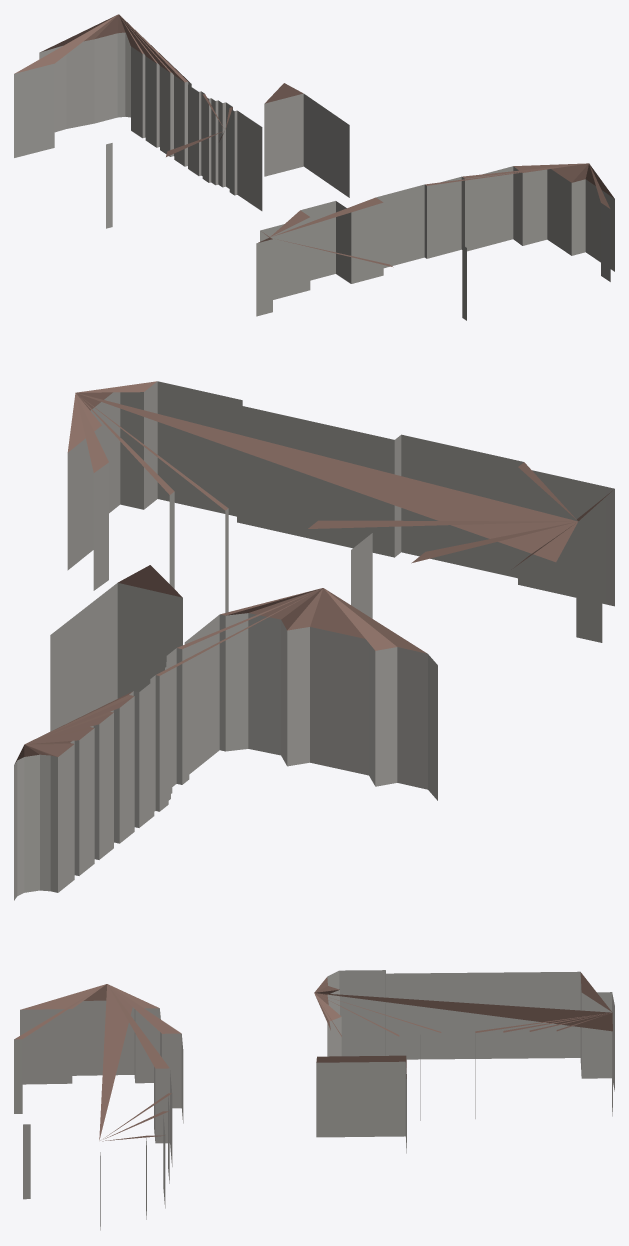
File: c_1636_17828_buildings_civic.glb
3 renders of one model, top to bottom at view 1: azimuth 30°, elevation 25°; view 2: azimuth 150°, elevation 25°; view 3: azimuth 270°, elevation 25°, orthographic. The views are drawn at different scales.
Parts seen in each view (by area): view 1: geometry_0; view 2: geometry_0; view 3: geometry_0.
Boxes of the visible parts, x1,y1,x2,y2 form: geometry_0: (14, 14, 614, 320); geometry_0: (14, 381, 614, 900); geometry_0: (14, 970, 614, 1230).
Bounding box in the file's own units: 63.9 × 19.18 × 94.76.
